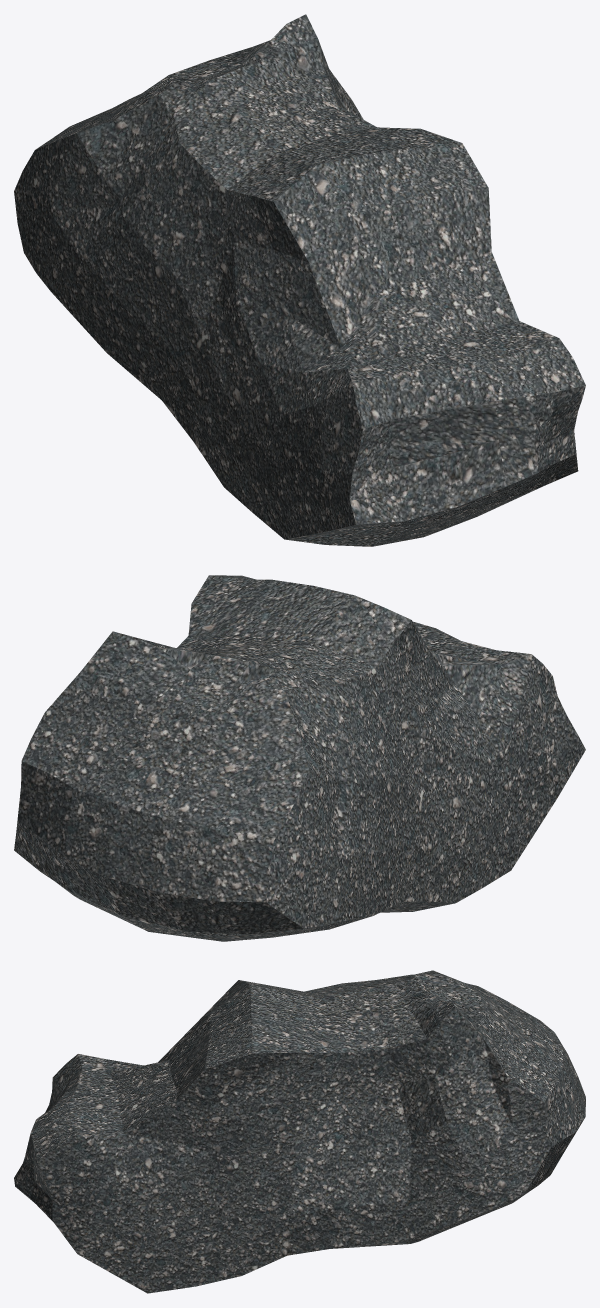
The model's file is rock3.glb.
The picture shows the model from 3 angles, top to bottom: view 1: azimuth 30°, elevation 25°; view 2: azimuth 150°, elevation 25°; view 3: azimuth 270°, elevation 25°; orthographic projection. The views are drawn at different scales.
Visible parts, largest first — view 1: Plane.018; view 2: Plane.018; view 3: Plane.018.
Boxes of the visible parts, <box> form: Plane.018: <box>14,14,585,546</box>; Plane.018: <box>14,575,585,941</box>; Plane.018: <box>14,970,585,1293</box>.
Bounding box in the file's own units: 3.78 × 4.13 × 7.42.
Materials: 1 (1 with a texture image).
